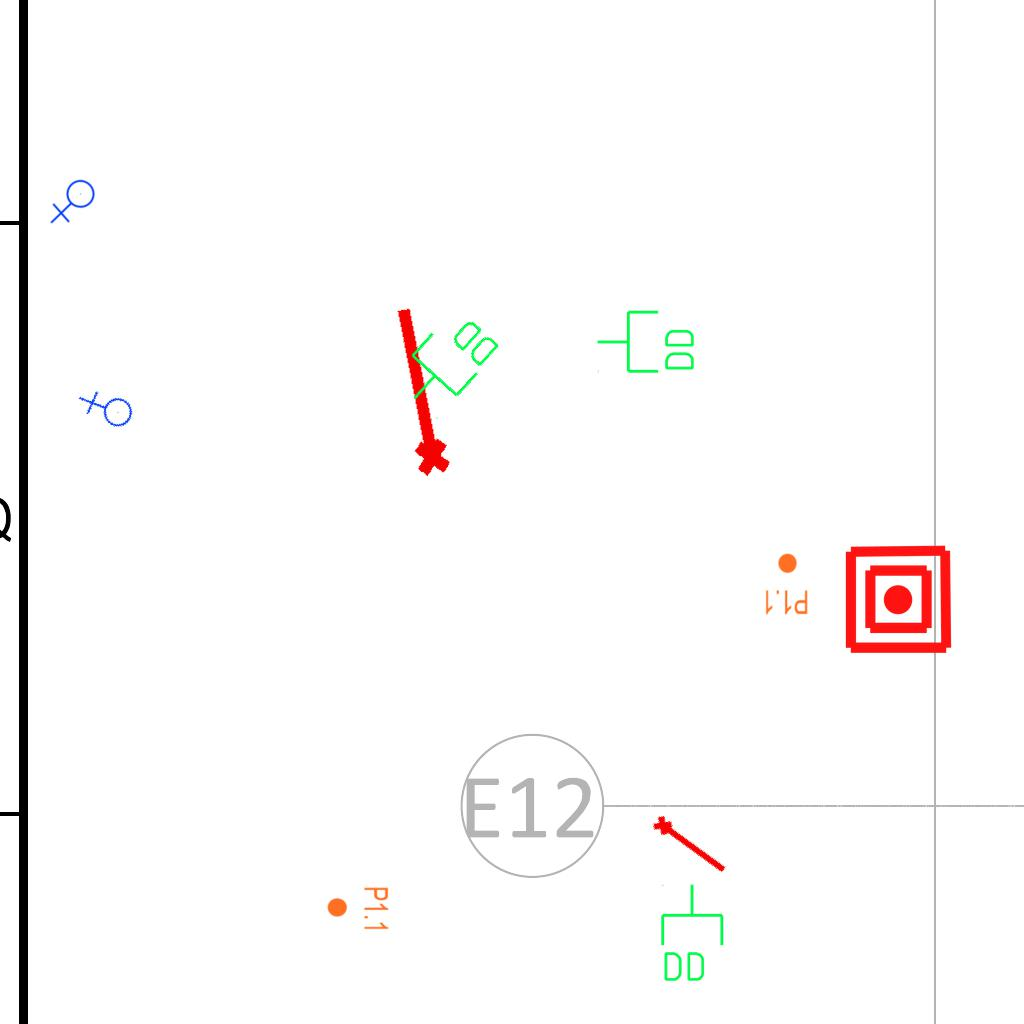ASR_Ansaugoeffnung: (377, 300, 457, 482), (648, 809, 734, 880)
Datenanschluss_zweifach: (387, 301, 508, 424), (595, 308, 698, 377), (657, 882, 726, 985)
Downlight_LED_Einbauleuchten_Flur: (763, 552, 809, 616), (326, 886, 390, 932)
Elektroanschluss_allgemein_230V_Geraeteanschlussdose_230V: (75, 378, 140, 443), (50, 179, 99, 226)
NAM-Nichtautomatischer_Melder: (842, 543, 955, 656)
